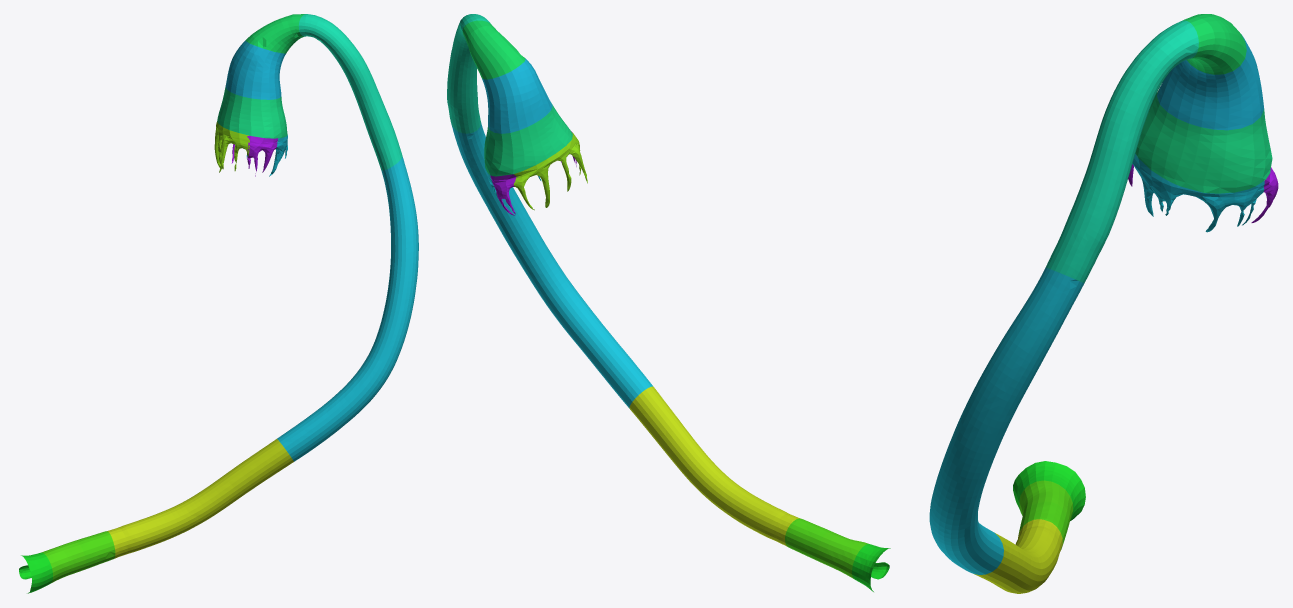
File: fallopian-tube-female-left-upenn.glb
3 renders of one model, left to right at view 1: azimuth 30°, elevation 25°; view 2: azimuth 150°, elevation 25°; view 3: azimuth 270°, elevation 25°, orthographic. The views are drawn at different scales.
Parts seen in each view (by area): view 1: world; view 2: world; view 3: world.
Boxes of the visible parts, x1=… form: world: x1=19, y1=14, x2=418, y2=593; world: x1=447, y1=14, x2=890, y2=591; world: x1=929, y1=14, x2=1278, y2=593.
Bounding box in the file's own units: 0.0384 × 0.0442 × 0.0185.
